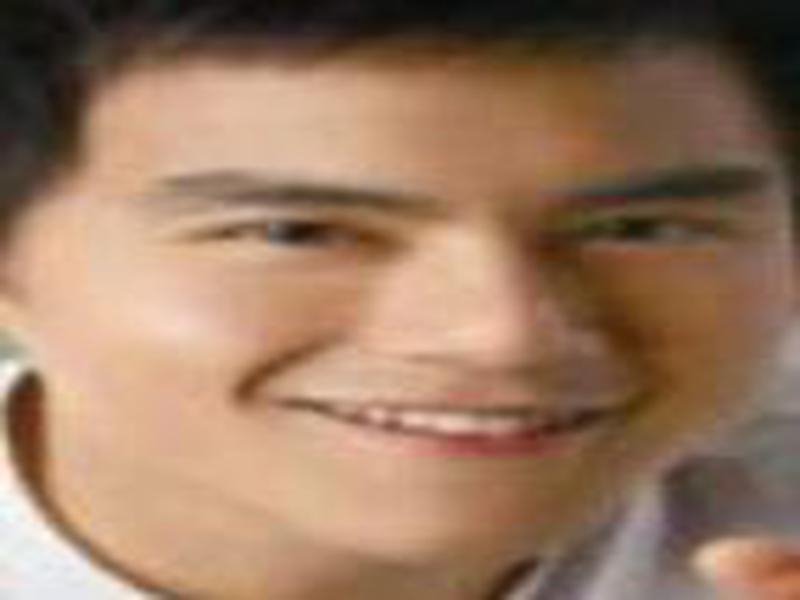without_mask: (45, 44, 800, 563)
